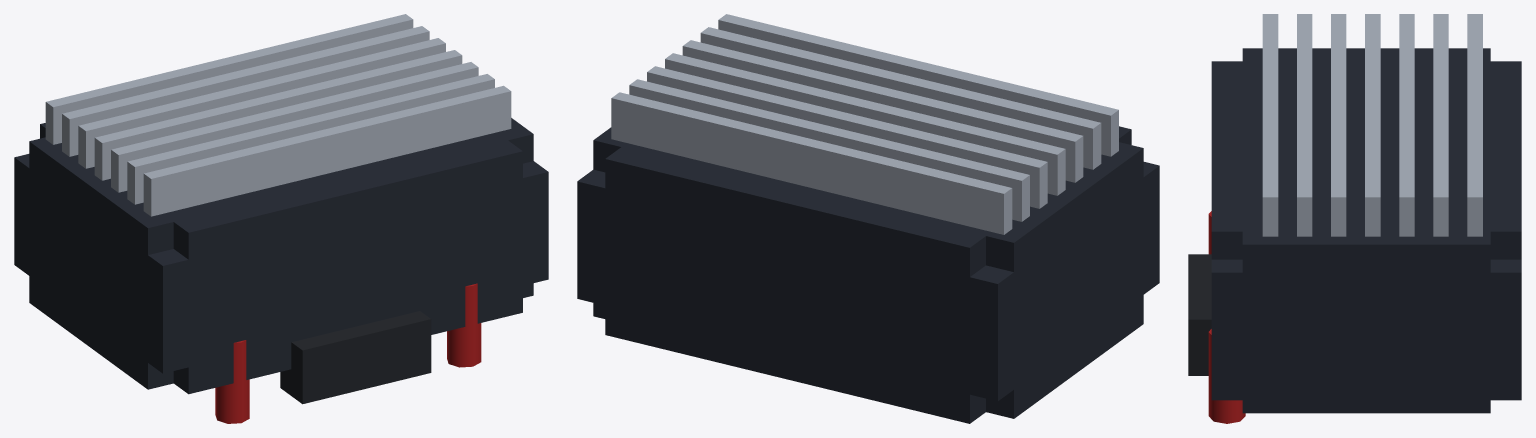
Rendered from kvi-ele-04.glb.
3 views of the same model, side by side, from view 1: azimuth 30°, elevation 25°; view 2: azimuth 150°, elevation 25°; view 3: azimuth 270°, elevation 25° (orthographic). The views are drawn at different scales.
Visible parts, largest first — view 1: Convertidor DC-DC 72V a 12V; view 2: Convertidor DC-DC 72V a 12V; view 3: Convertidor DC-DC 72V a 12V.
Boxes of the visible parts, x1=… form: Convertidor DC-DC 72V a 12V: x1=14, y1=14, x2=548, y2=423; Convertidor DC-DC 72V a 12V: x1=577, y1=14, x2=1159, y2=423; Convertidor DC-DC 72V a 12V: x1=1188, y1=14, x2=1521, y2=423.
Size of the model in its own units: 1 by 0.5967 by 0.7167.
